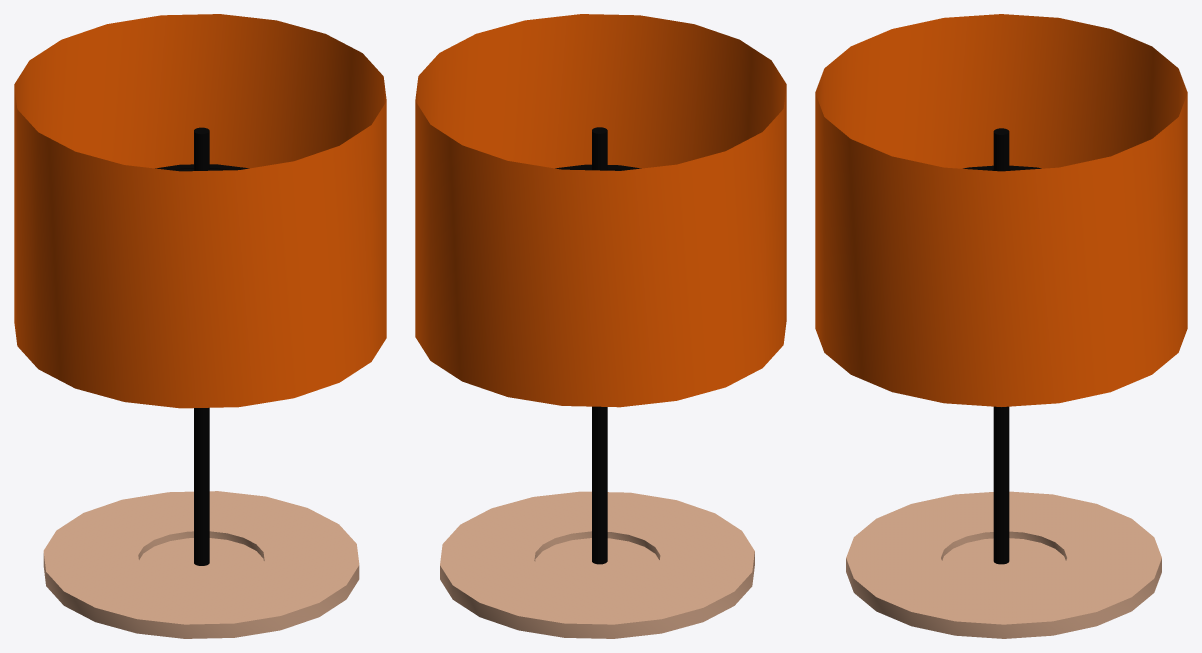
The model's file is Lamp_S.fbx.
The picture shows the model from 3 angles, left to right: view 1: azimuth 30°, elevation 25°; view 2: azimuth 150°, elevation 25°; view 3: azimuth 270°, elevation 25°; orthographic projection.
Parts seen in each view (by area): view 1: censor, base, metal_stand; view 2: censor, base, metal_stand; view 3: censor, base, metal_stand.
Part boxes in pixels (x1=…): censor: x1=14, y1=14, x2=386, y2=408; base: x1=43, y1=491, x2=359, y2=638; metal_stand: x1=194, y1=127, x2=209, y2=565; censor: x1=415, y1=14, x2=786, y2=407; base: x1=440, y1=491, x2=754, y2=638; metal_stand: x1=592, y1=127, x2=607, y2=564; censor: x1=815, y1=14, x2=1187, y2=406; base: x1=846, y1=491, x2=1161, y2=638; metal_stand: x1=993, y1=128, x2=1009, y2=564.
Size of the model in its own units: 23.58 by 33.42 by 23.58.
Materials: 4 (2 with a texture image).
